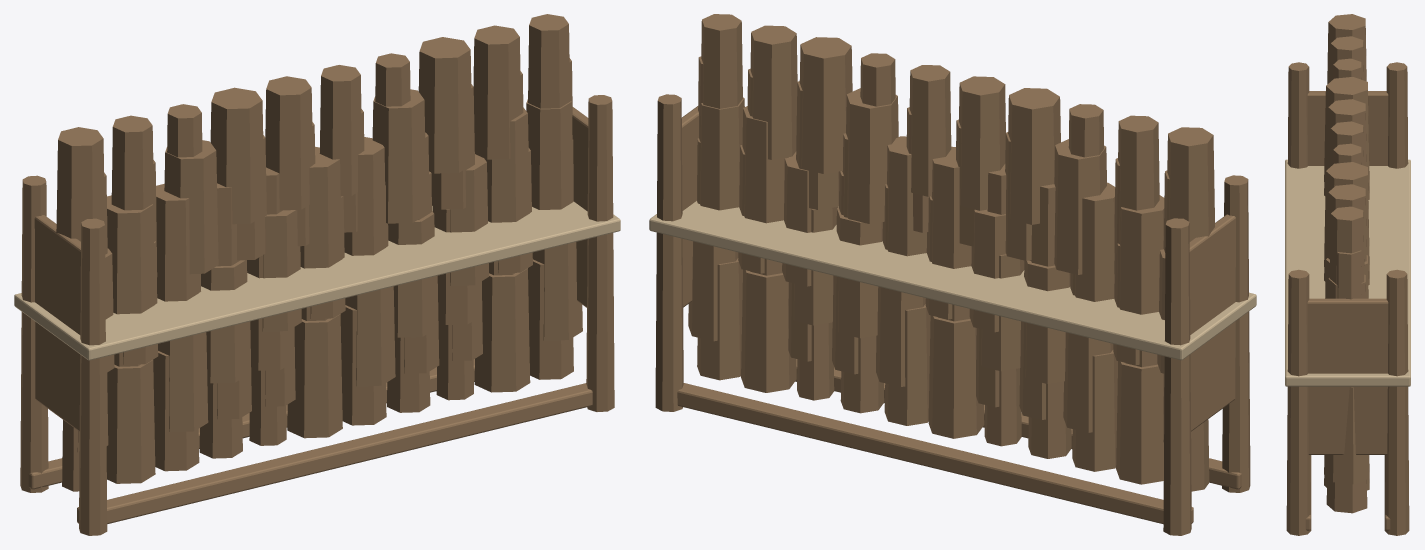
The model's file is wood_stack.glb.
3 renders of one model, left to right at view 1: azimuth 30°, elevation 25°; view 2: azimuth 150°, elevation 25°; view 3: azimuth 270°, elevation 25°, orthographic. The views are drawn at different scales.
Visible parts, largest first — view 1: 206-wood-stack/0, 206-wood-stack/1; view 2: 206-wood-stack/0, 206-wood-stack/1; view 3: 206-wood-stack/0, 206-wood-stack/1.
Part boxes in pixels (x1,y1,x2,y2): 206-wood-stack/0: (20, 14, 614, 535); 206-wood-stack/1: (14, 201, 620, 360); 206-wood-stack/0: (655, 14, 1250, 535); 206-wood-stack/1: (649, 201, 1256, 360); 206-wood-stack/0: (1286, 14, 1409, 535); 206-wood-stack/1: (1285, 159, 1410, 386).
Bounding box in the file's own units: 2 × 1.32 × 0.4888.
